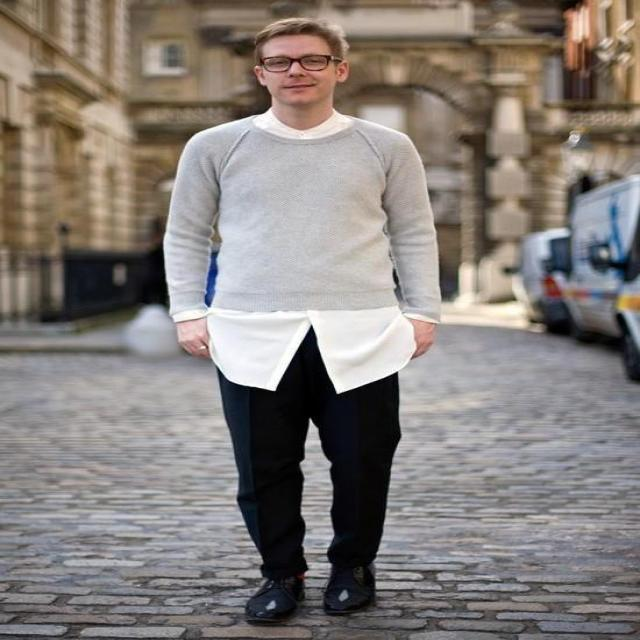pants: (213, 309, 401, 581)
sweater: (160, 107, 444, 326)
